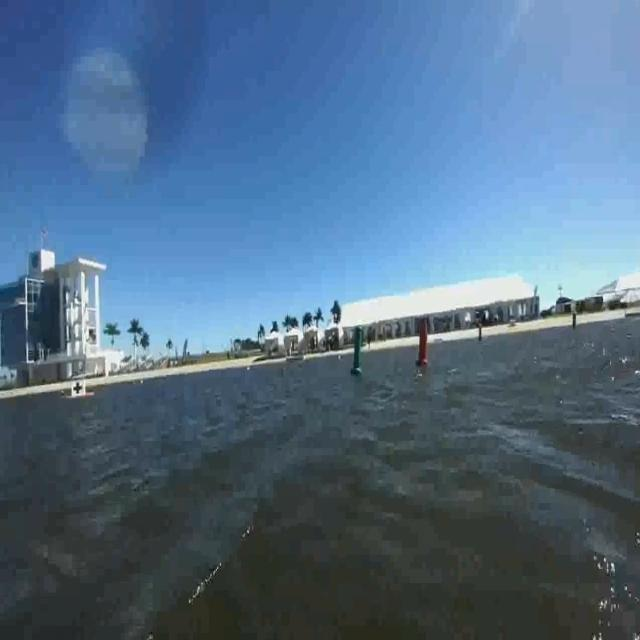green-column-buoy: (350, 323, 366, 375)
red-column-buoy: (414, 310, 434, 380)
